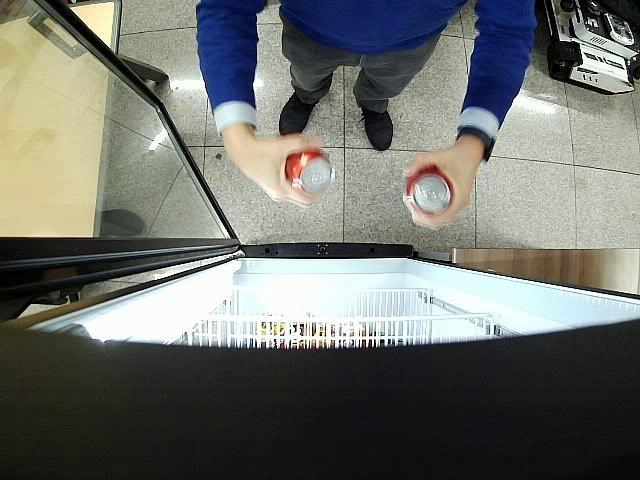11_cocaColaZero: (406, 168, 456, 216), (286, 150, 336, 196)
